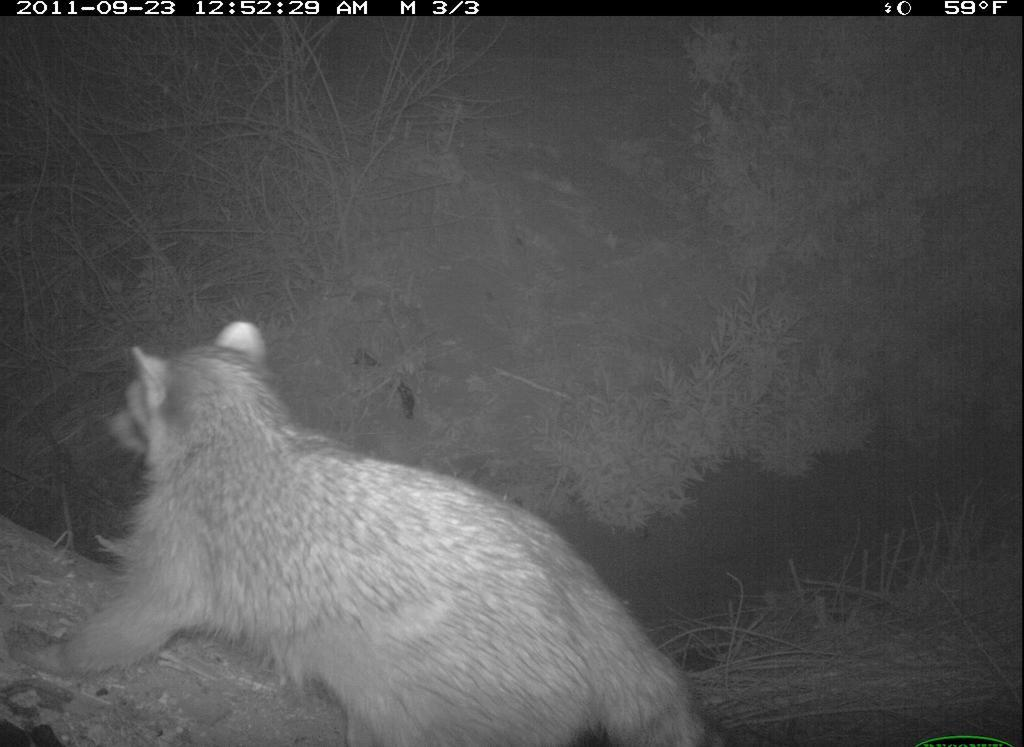raccoon: (7, 318, 733, 747)
